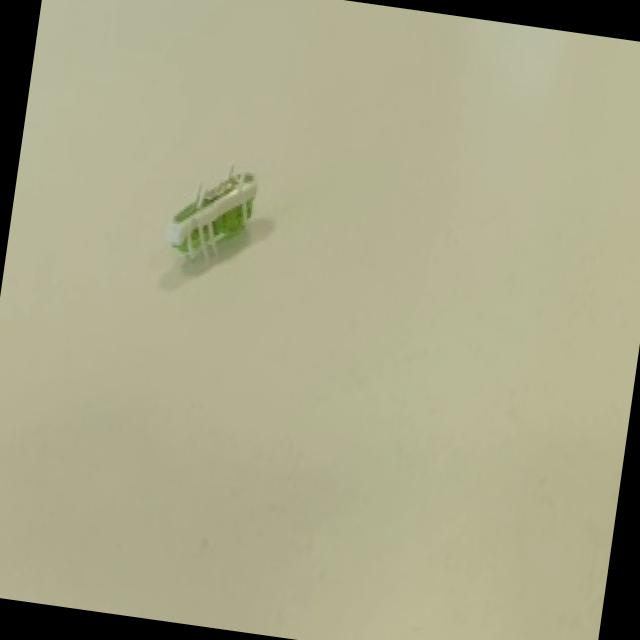4_NanoBug_Blanco: (142, 132, 292, 318)
